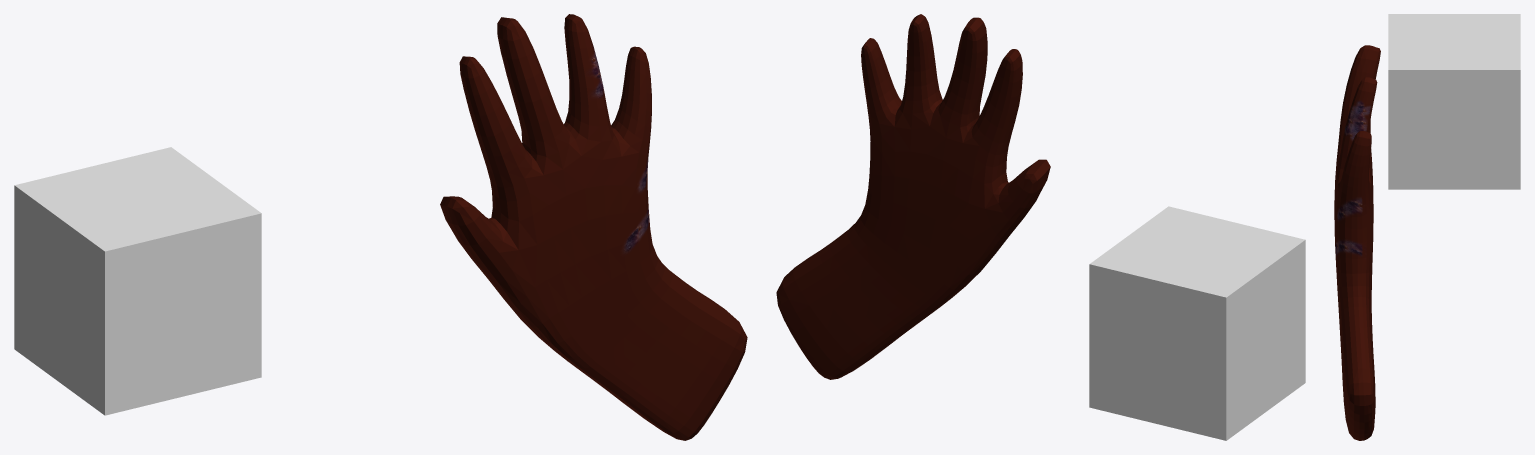
File: dark-hand.glb
The picture shows the model from 3 angles, left to right: view 1: azimuth 30°, elevation 25°; view 2: azimuth 150°, elevation 25°; view 3: azimuth 270°, elevation 25°; orthographic projection. The views are drawn at different scales.
Visible parts, largest first — view 1: Cube.001, Cube; view 2: Cube.001, Cube; view 3: Cube, Cube.001.
Boxes of the visible parts, x1,y1,x2,y2 form: Cube.001: [440, 14, 747, 440]; Cube: [14, 147, 261, 415]; Cube.001: [776, 14, 1050, 379]; Cube: [1089, 206, 1305, 440]; Cube: [1388, 14, 1520, 189]; Cube.001: [1334, 45, 1380, 440].
Size of the model in its own units: 7.91 by 5.57 by 2.82.
2 materials, 1 textured.
